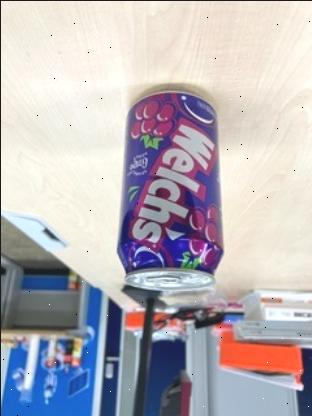Can: (114, 77, 226, 292)
